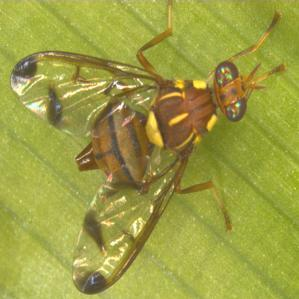melon fly: (11, 1, 299, 299)
